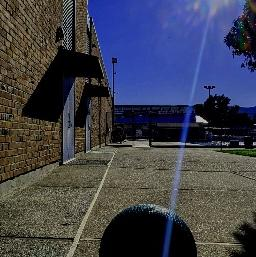algae: (95, 200, 200, 257)
